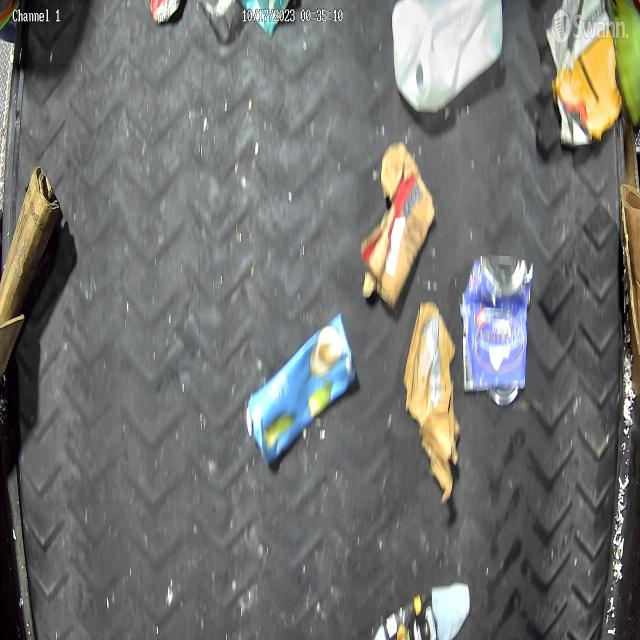can: (489, 390, 520, 407)
milk_jug: (393, 1, 504, 112)
non_white_jug: (246, 311, 356, 464), (374, 582, 470, 640)
